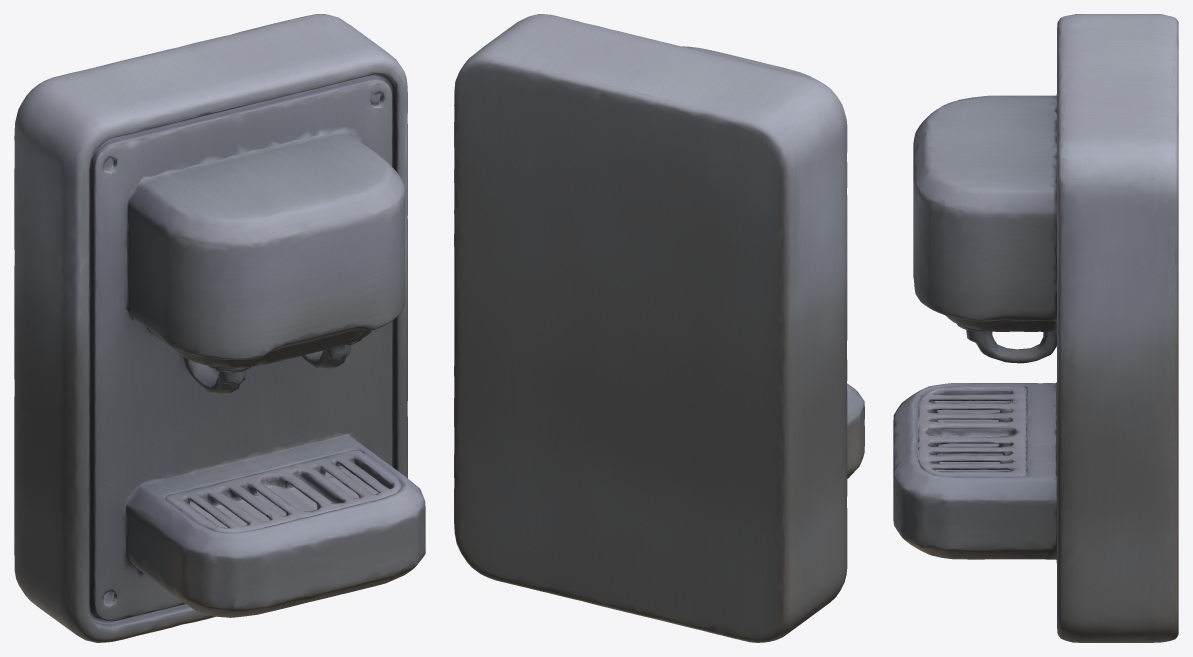
Rendered from studentcafe_WaterDispenser.glb.
3 views of the same model, side by side, from view 1: azimuth 30°, elevation 25°; view 2: azimuth 150°, elevation 25°; view 3: azimuth 270°, elevation 25° (orthographic). The views are drawn at different scales.
Parts seen in each view (by area): view 1: world; view 2: world; view 3: world.
Part boxes in pixels (bbox=[...]): world: bbox=[14, 14, 425, 642]; world: bbox=[454, 14, 864, 642]; world: bbox=[893, 14, 1178, 642].
Bounding box in the file's own units: 0.6763 × 1 × 0.5183.
Materials: 1 (1 with a texture image).
